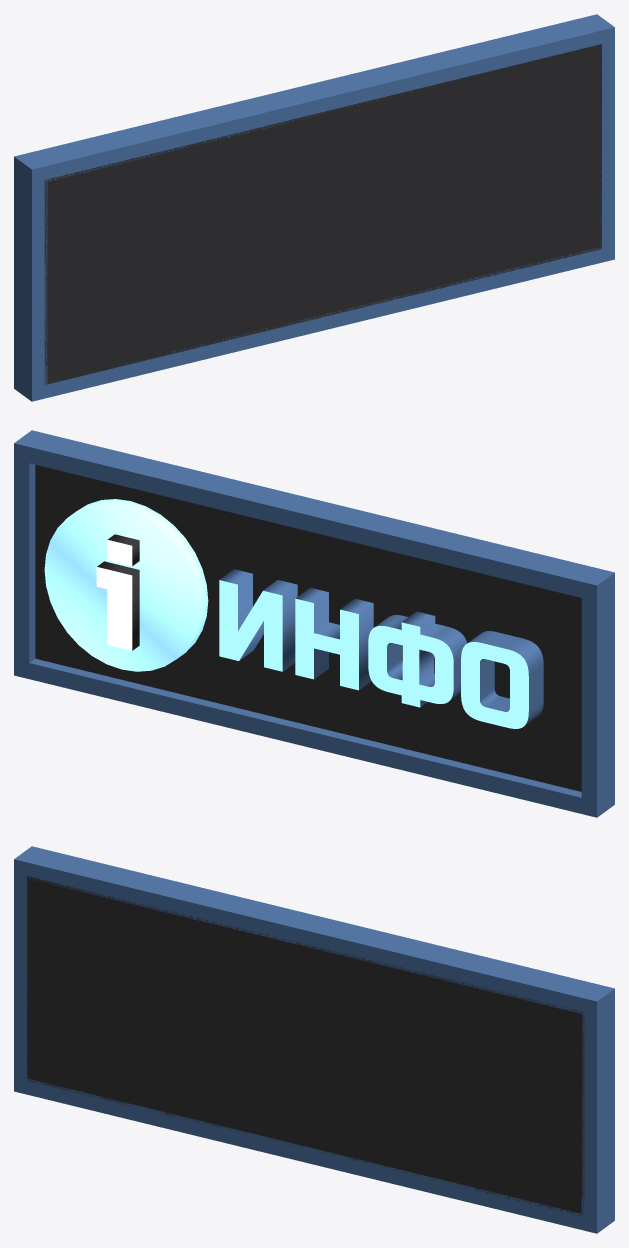
File: info.glb
3 views of the same model, one above another, from view 1: azimuth 30°, elevation 25°; view 2: azimuth 150°, elevation 25°; view 3: azimuth 330°, elevation 25° (orthographic).
Visible parts, largest first — view 1: Sign; view 2: Sign; view 3: Sign.
Boxes of the visible parts, <box> form: Sign: <box>14,14,614,401</box>; Sign: <box>14,430,614,817</box>; Sign: <box>14,846,614,1233</box>.
Size of the model in its own units: 2.26 by 0.86 by 0.19.
